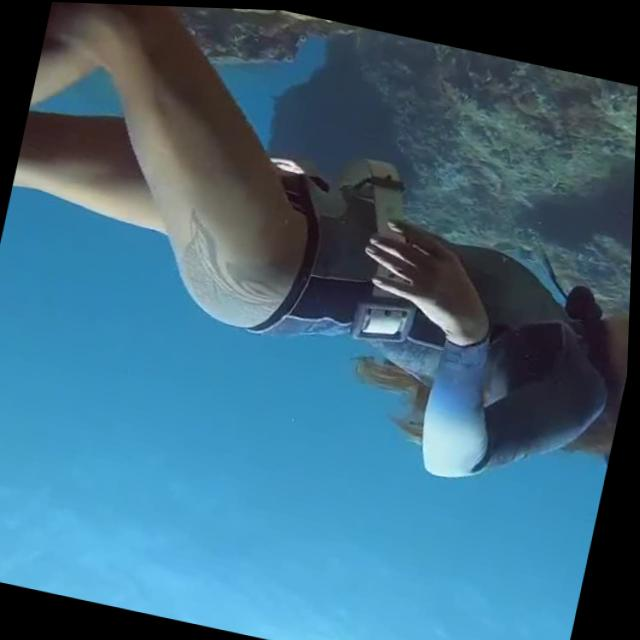human: (0, 0, 640, 528)
